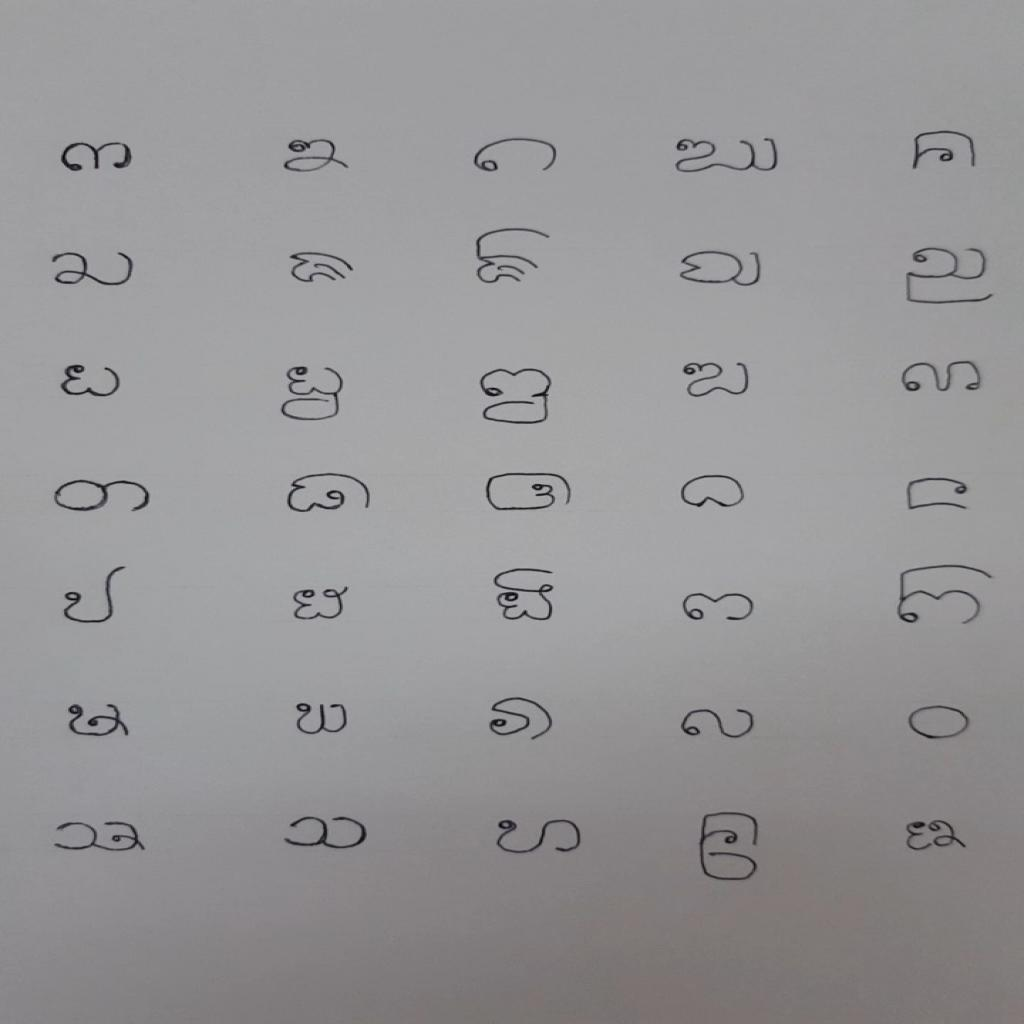LN001: (53, 138, 140, 178)
LN002: (276, 136, 360, 177)
LN003: (466, 135, 568, 178)
LN004: (668, 135, 789, 178)
LN005: (905, 128, 987, 176)
LN007: (43, 247, 143, 292)
LN008: (284, 249, 363, 288)
LN009: (468, 224, 560, 289)
LN010: (674, 247, 771, 291)
LN011: (898, 243, 1003, 310)
LN013: (56, 361, 130, 403)
LN014: (275, 363, 352, 426)
LN015: (473, 365, 561, 430)
LN016: (676, 359, 759, 402)
LN017: (894, 357, 991, 396)
LN019: (47, 475, 161, 518)
LN020: (280, 470, 380, 517)
LN021: (478, 469, 582, 517)
LN022: (674, 471, 755, 513)
LN023: (898, 474, 978, 516)
LN025: (57, 563, 131, 629)
LN026: (286, 584, 357, 624)
LN027: (487, 565, 564, 626)
LN028: (679, 590, 762, 627)
LN029: (891, 562, 999, 630)
LN031: (57, 699, 140, 742)
LN032: (287, 700, 358, 740)
LN033: (480, 693, 563, 746)
LN034: (674, 705, 764, 744)
LN035: (901, 701, 979, 745)
LN037: (46, 818, 156, 858)
LN038: (279, 814, 377, 853)
LN039: (487, 815, 591, 859)
LN040: (693, 808, 770, 887)
LN041: (894, 816, 972, 857)
